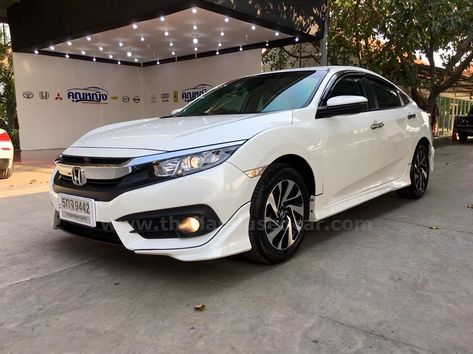sedan: (48, 63, 437, 267)
